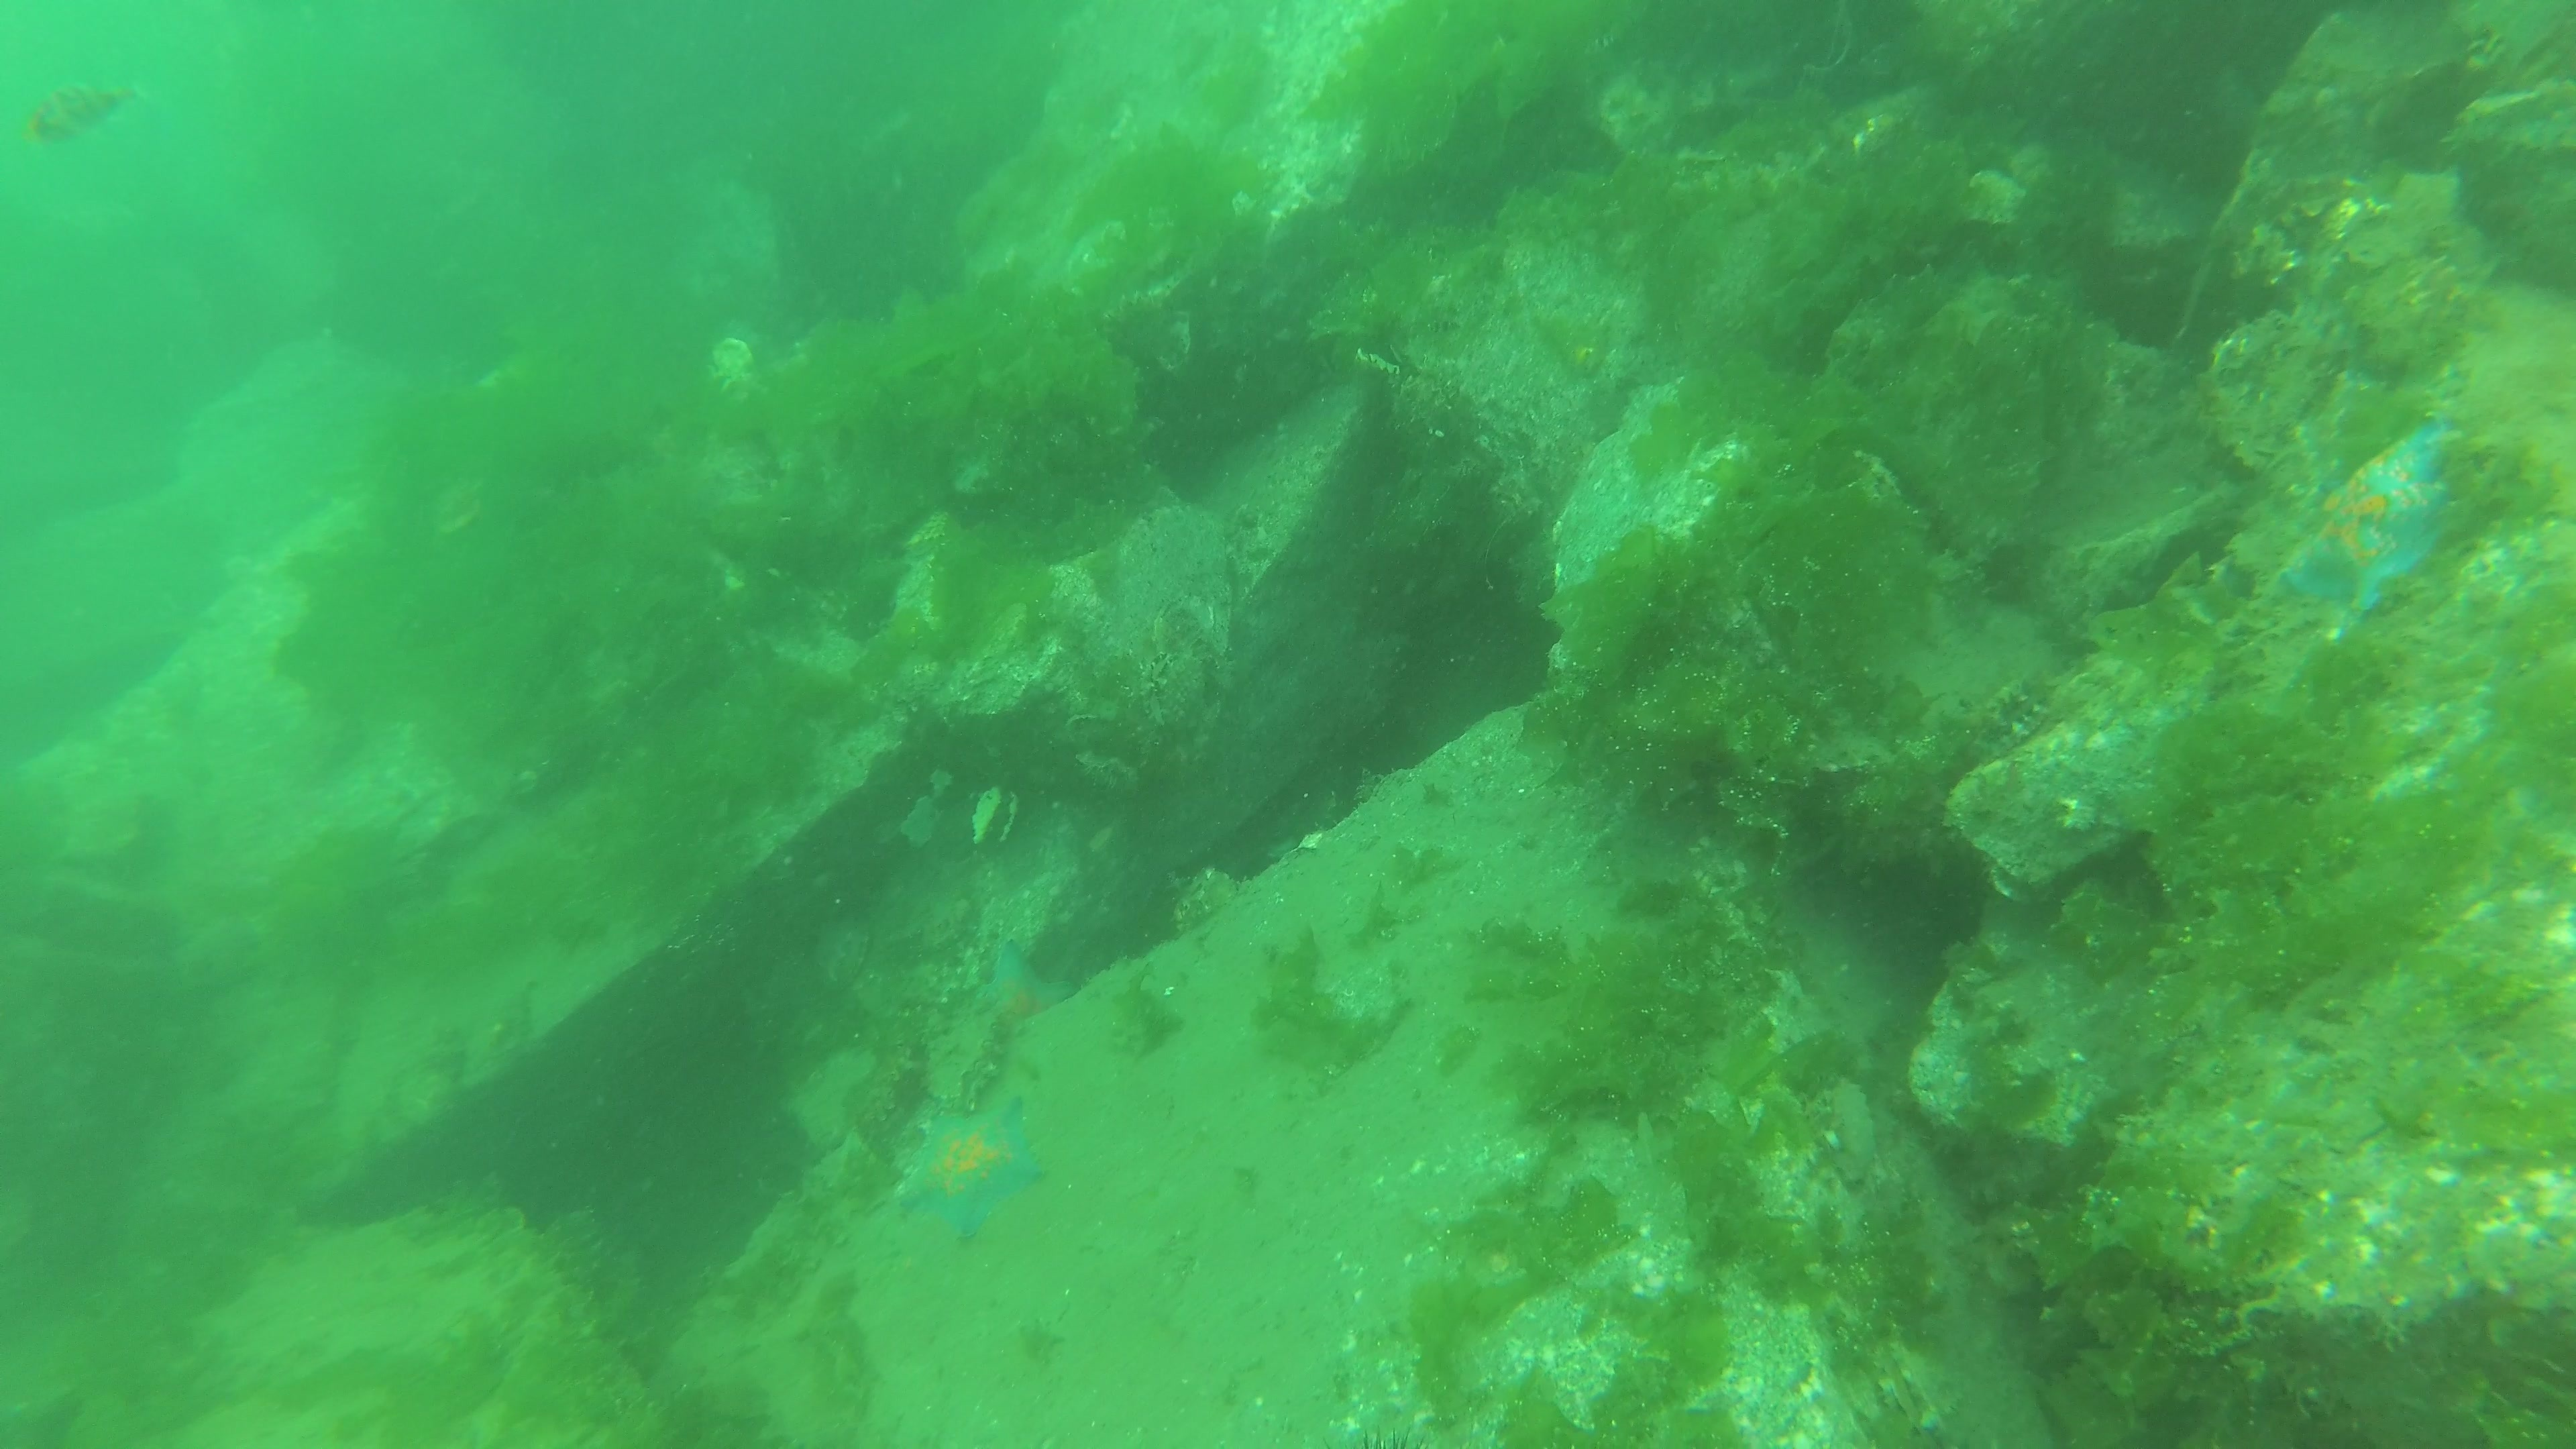starfish: (2275, 416, 2459, 619), (895, 1099, 1042, 1244), (975, 941, 1079, 1030)
